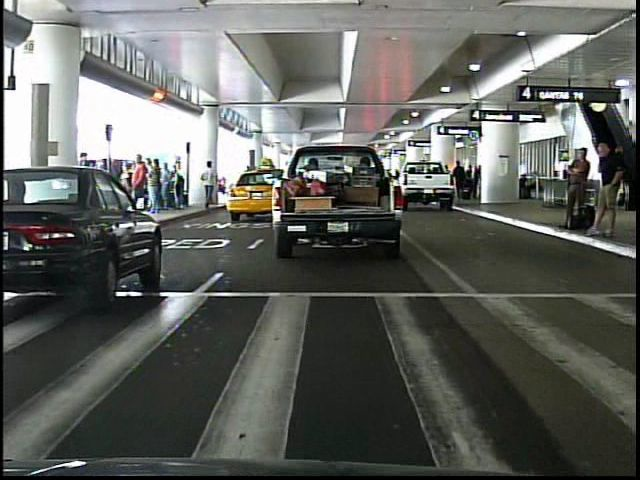person: (589, 138, 625, 240), (558, 137, 592, 238), (126, 153, 151, 219), (200, 160, 221, 211)
